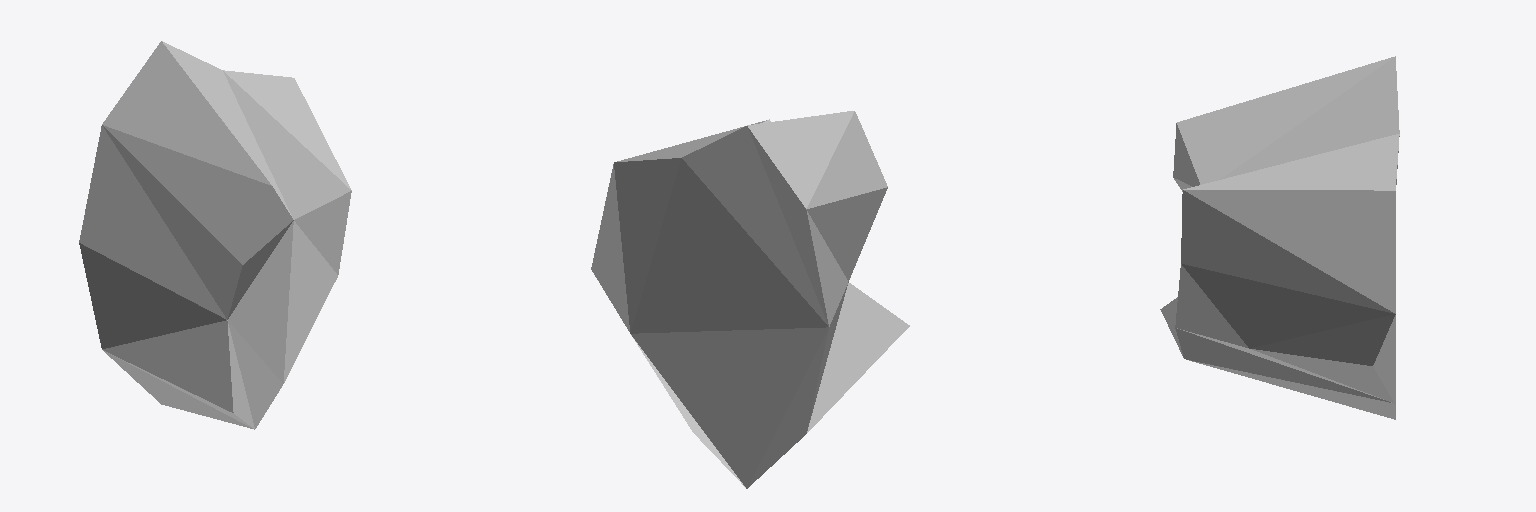
The model's file is ObjectStoneBoulder.obj.
3 views of the same model, side by side, from view 1: azimuth 30°, elevation 25°; view 2: azimuth 150°, elevation 25°; view 3: azimuth 270°, elevation 25° (orthographic).
Parts seen in each view (by area): view 1: Cylinder; view 2: Cylinder; view 3: Cylinder.
Boxes of the visible parts, x1=… form: Cylinder: x1=79, y1=41, x2=351, y2=429; Cylinder: x1=591, y1=111, x2=909, y2=488; Cylinder: x1=1160, y1=56, x2=1399, y2=419.
Size of the model in its own units: 6.1 by 8.9 by 5.31.